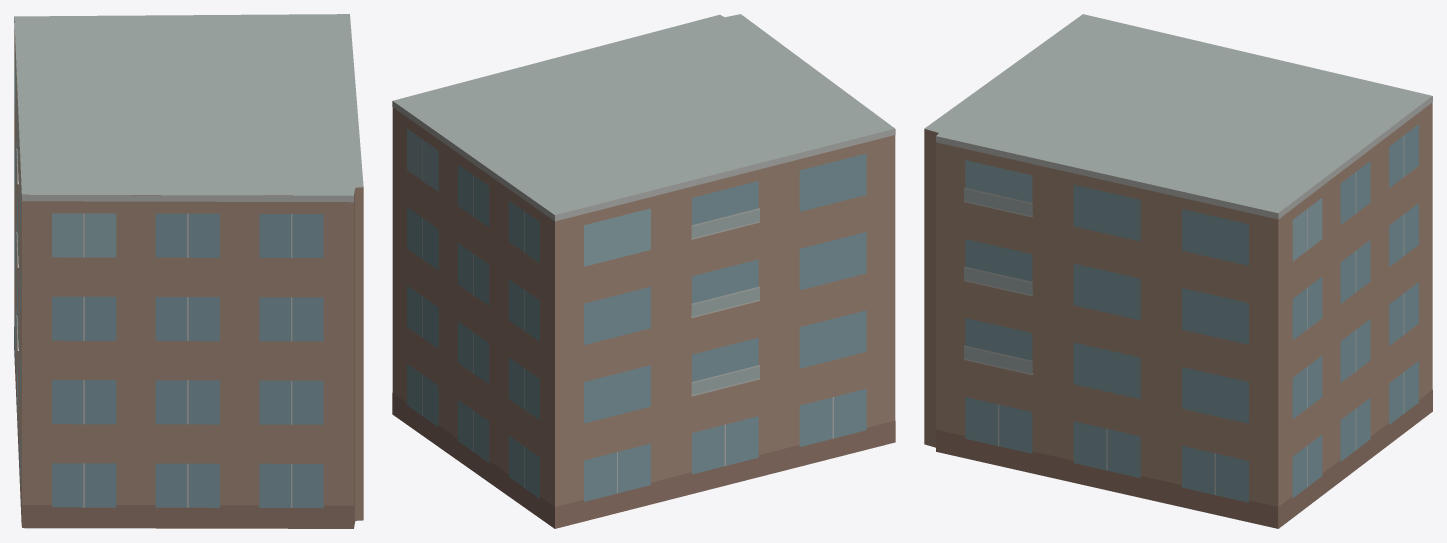
The model's file is survey-upis-32706624.glb.
3 renders of one model, left to right at view 1: azimuth 30°, elevation 25°; view 2: azimuth 150°, elevation 25°; view 3: azimuth 270°, elevation 25°, orthographic. The views are drawn at different scales.
Parts seen in each view (by area): view 1: survey-upis-32706624.tmp; view 2: survey-upis-32706624.tmp; view 3: survey-upis-32706624.tmp.
Part boxes in pixels (left/top/right/bottom): survey-upis-32706624.tmp: left=14, top=14, right=363, bottom=528; survey-upis-32706624.tmp: left=392, top=14, right=895, bottom=528; survey-upis-32706624.tmp: left=924, top=14, right=1432, bottom=528.
Size of the model in its own units: 16.8 by 12.4 by 18.12.
